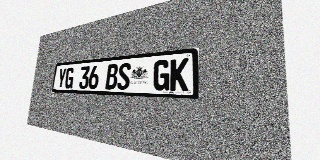3: (79, 66, 90, 89)
6: (88, 65, 100, 89)
B: (105, 64, 119, 90)
G: (153, 59, 170, 91), (64, 67, 75, 89)
K: (170, 58, 189, 91)
S: (117, 63, 131, 90)
Y: (57, 68, 67, 88)
